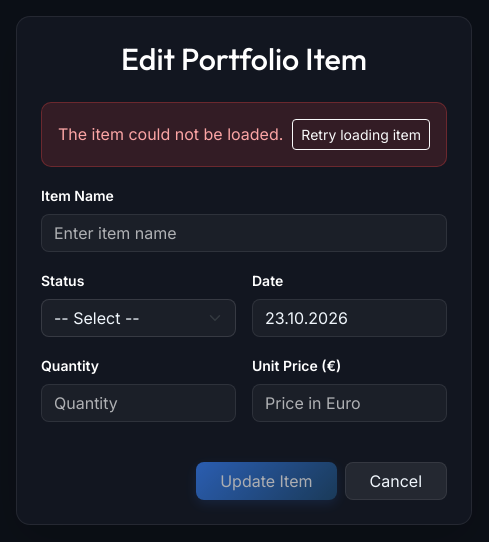
load failure disables saving and a successful explicit retry restores the form
This screenshot has width=489, height=542.
Check: the message shows "could not be loaded", box [58,124,283,144]
Check: the button "Update Item" is disabled, box [196,462,336,500]
Click the button "Retry loading item" at (361, 134), box [292,118,430,150]
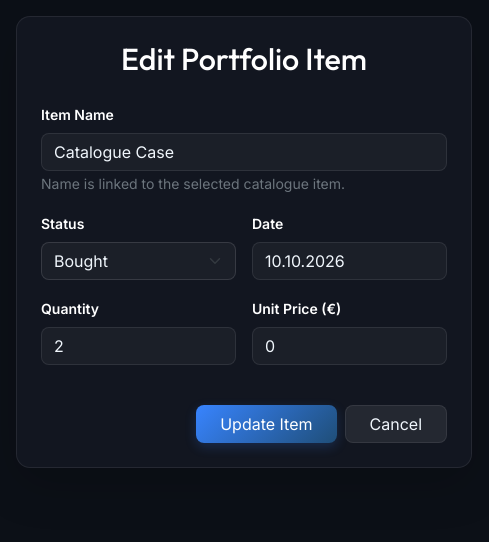
Check: the button "Update Item" is enabled, box [196,404,336,442]
